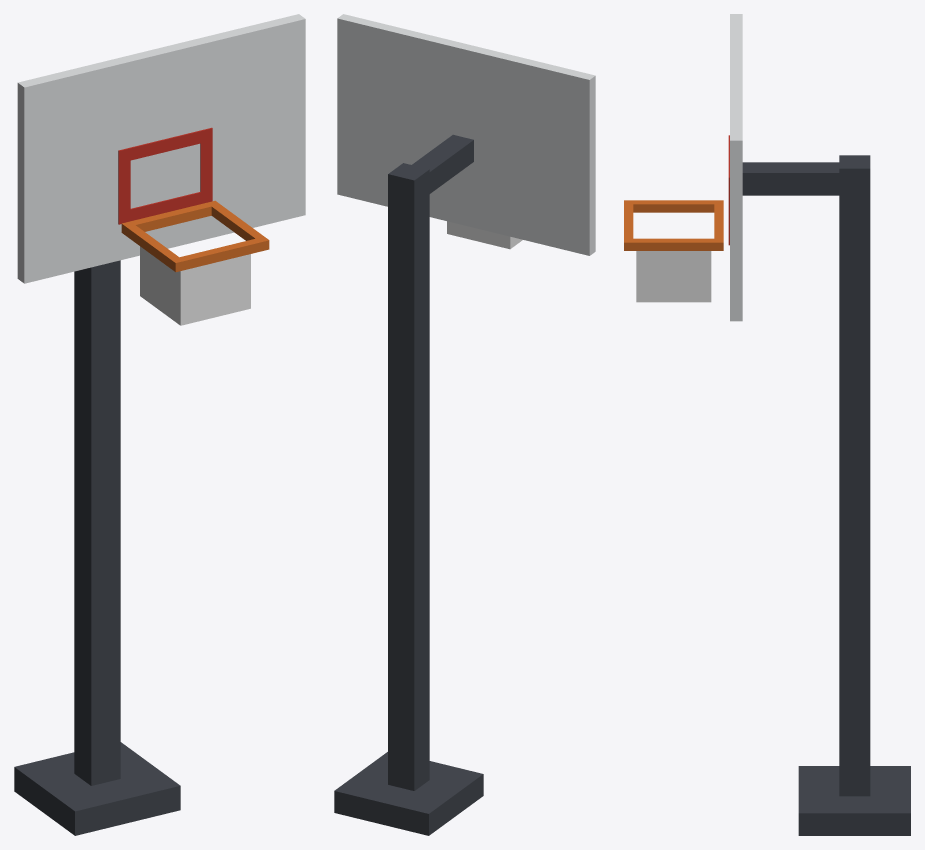
Rendered from esc-cesta-basquete.gltf.
3 views of the same model, side by side, from view 1: azimuth 30°, elevation 25°; view 2: azimuth 150°, elevation 25°; view 3: azimuth 270°, elevation 25° (orthographic). The views are drawn at different scales.
Parts seen in each view (by area): view 1: esc-cesta-basquete; view 2: esc-cesta-basquete; view 3: esc-cesta-basquete.
Part boxes in pixels (left/top/right/bottom): esc-cesta-basquete: left=14, top=14, right=305, bottom=835; esc-cesta-basquete: left=334, top=14, right=595, bottom=835; esc-cesta-basquete: left=624, top=14, right=910, bottom=835.
Bounding box in the file's own units: 0.96 × 2.6 × 0.92.
